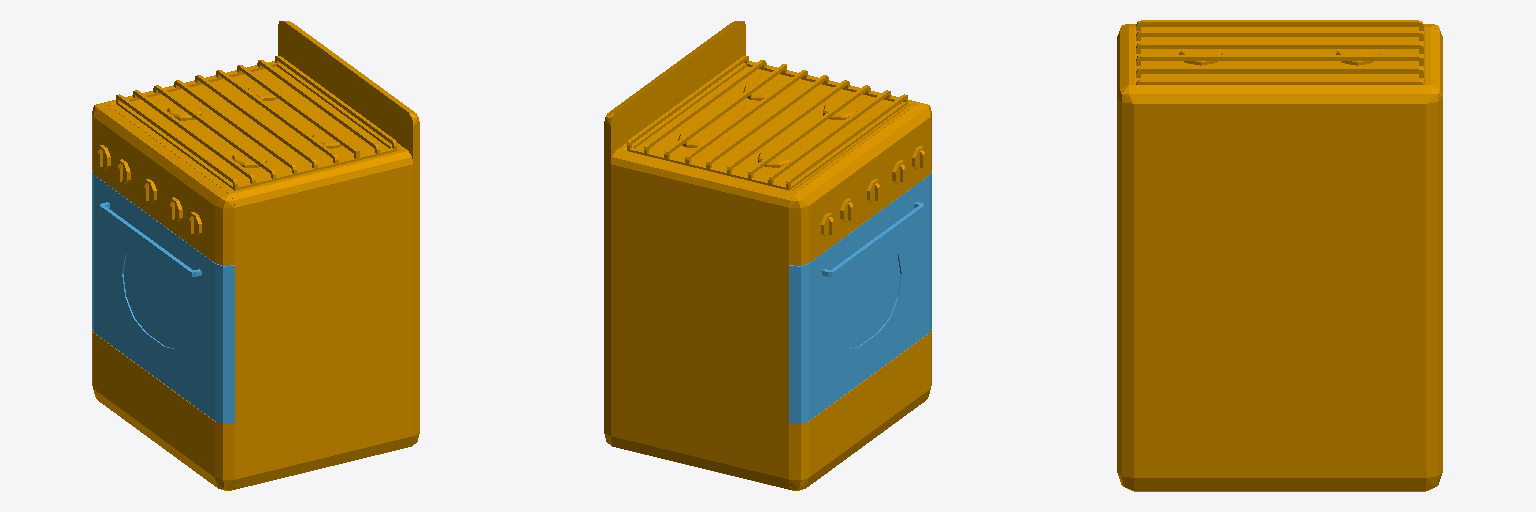
URDF robot description (Range):
<robot name="Range">
    <link name="corpus">
        <visual>
            <geometry>
                <mesh filename="meshes/corpus.obj"/>
            </geometry>
        </visual>
        <collision>
            <geometry>
                <mesh filename="meshes/corpus.obj"/>
            </geometry>
        </collision>
    </link>
    <link name="door">
        <visual>
            <geometry>
                <mesh filename="meshes/door.obj"/>
            </geometry>
        </visual>
        <collision>
            <geometry>
                <mesh filename="meshes/door.obj"/>
            </geometry>
        </collision>
    </link>

    <joint name="door_hinge" type="revolute">
        <origin xyz="0.0 0.0 0.0" rpy="0.0 0.0 0.0"/>
        <parent link="corpus"/>
        <child link="door"/>
        <axis xyz="0.0 -1.0 0.0"/>
        <limit lower="0.0" upper="1.5707963267948966" effort="100.0" velocity="100.0"/>
    </joint>
</robot>

--- What the picture shows (computed from the rendered views, not written in the file) ---
The picture shows the robot from 3 angles, left to right: view 1: azimuth 30°, elevation 25°; view 2: azimuth 150°, elevation 25°; view 3: azimuth 270°, elevation 25°; orthographic projection.
Robot: Range — 2 links, 1 joints (1 revolute); root link corpus; default pose: every joint at zero.
Visible links, largest first — view 1: corpus, door; view 2: corpus, door; view 3: corpus.
Boxes of the visible links, x1=… form: corpus: x1=92, y1=21, x2=419, y2=490; door: x1=92, y1=171, x2=234, y2=423; corpus: x1=604, y1=21, x2=931, y2=490; door: x1=789, y1=171, x2=931, y2=423; corpus: x1=1117, y1=20, x2=1442, y2=491.
Size in the robot's own frame: 0.1063 by 0.1172 by 0.1609 metres.
Meshes: 2 distinct files referenced, 2 mesh visuals loaded (2 OBJ).